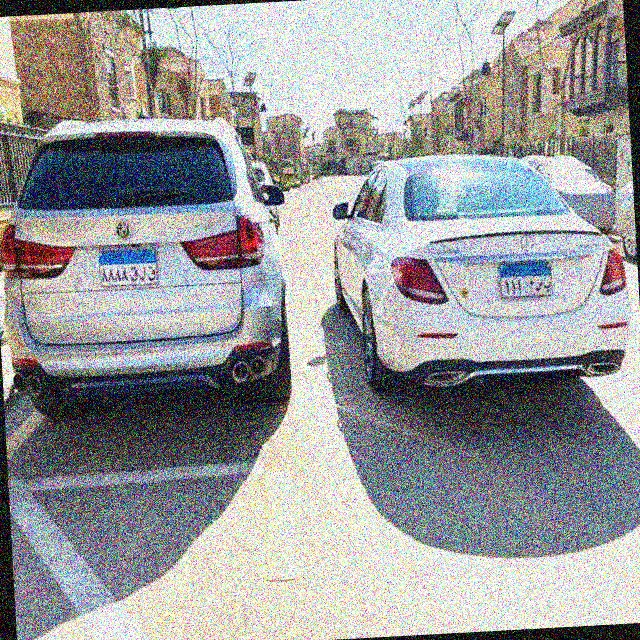License Plate: (96, 246, 161, 290), (498, 260, 555, 300)
